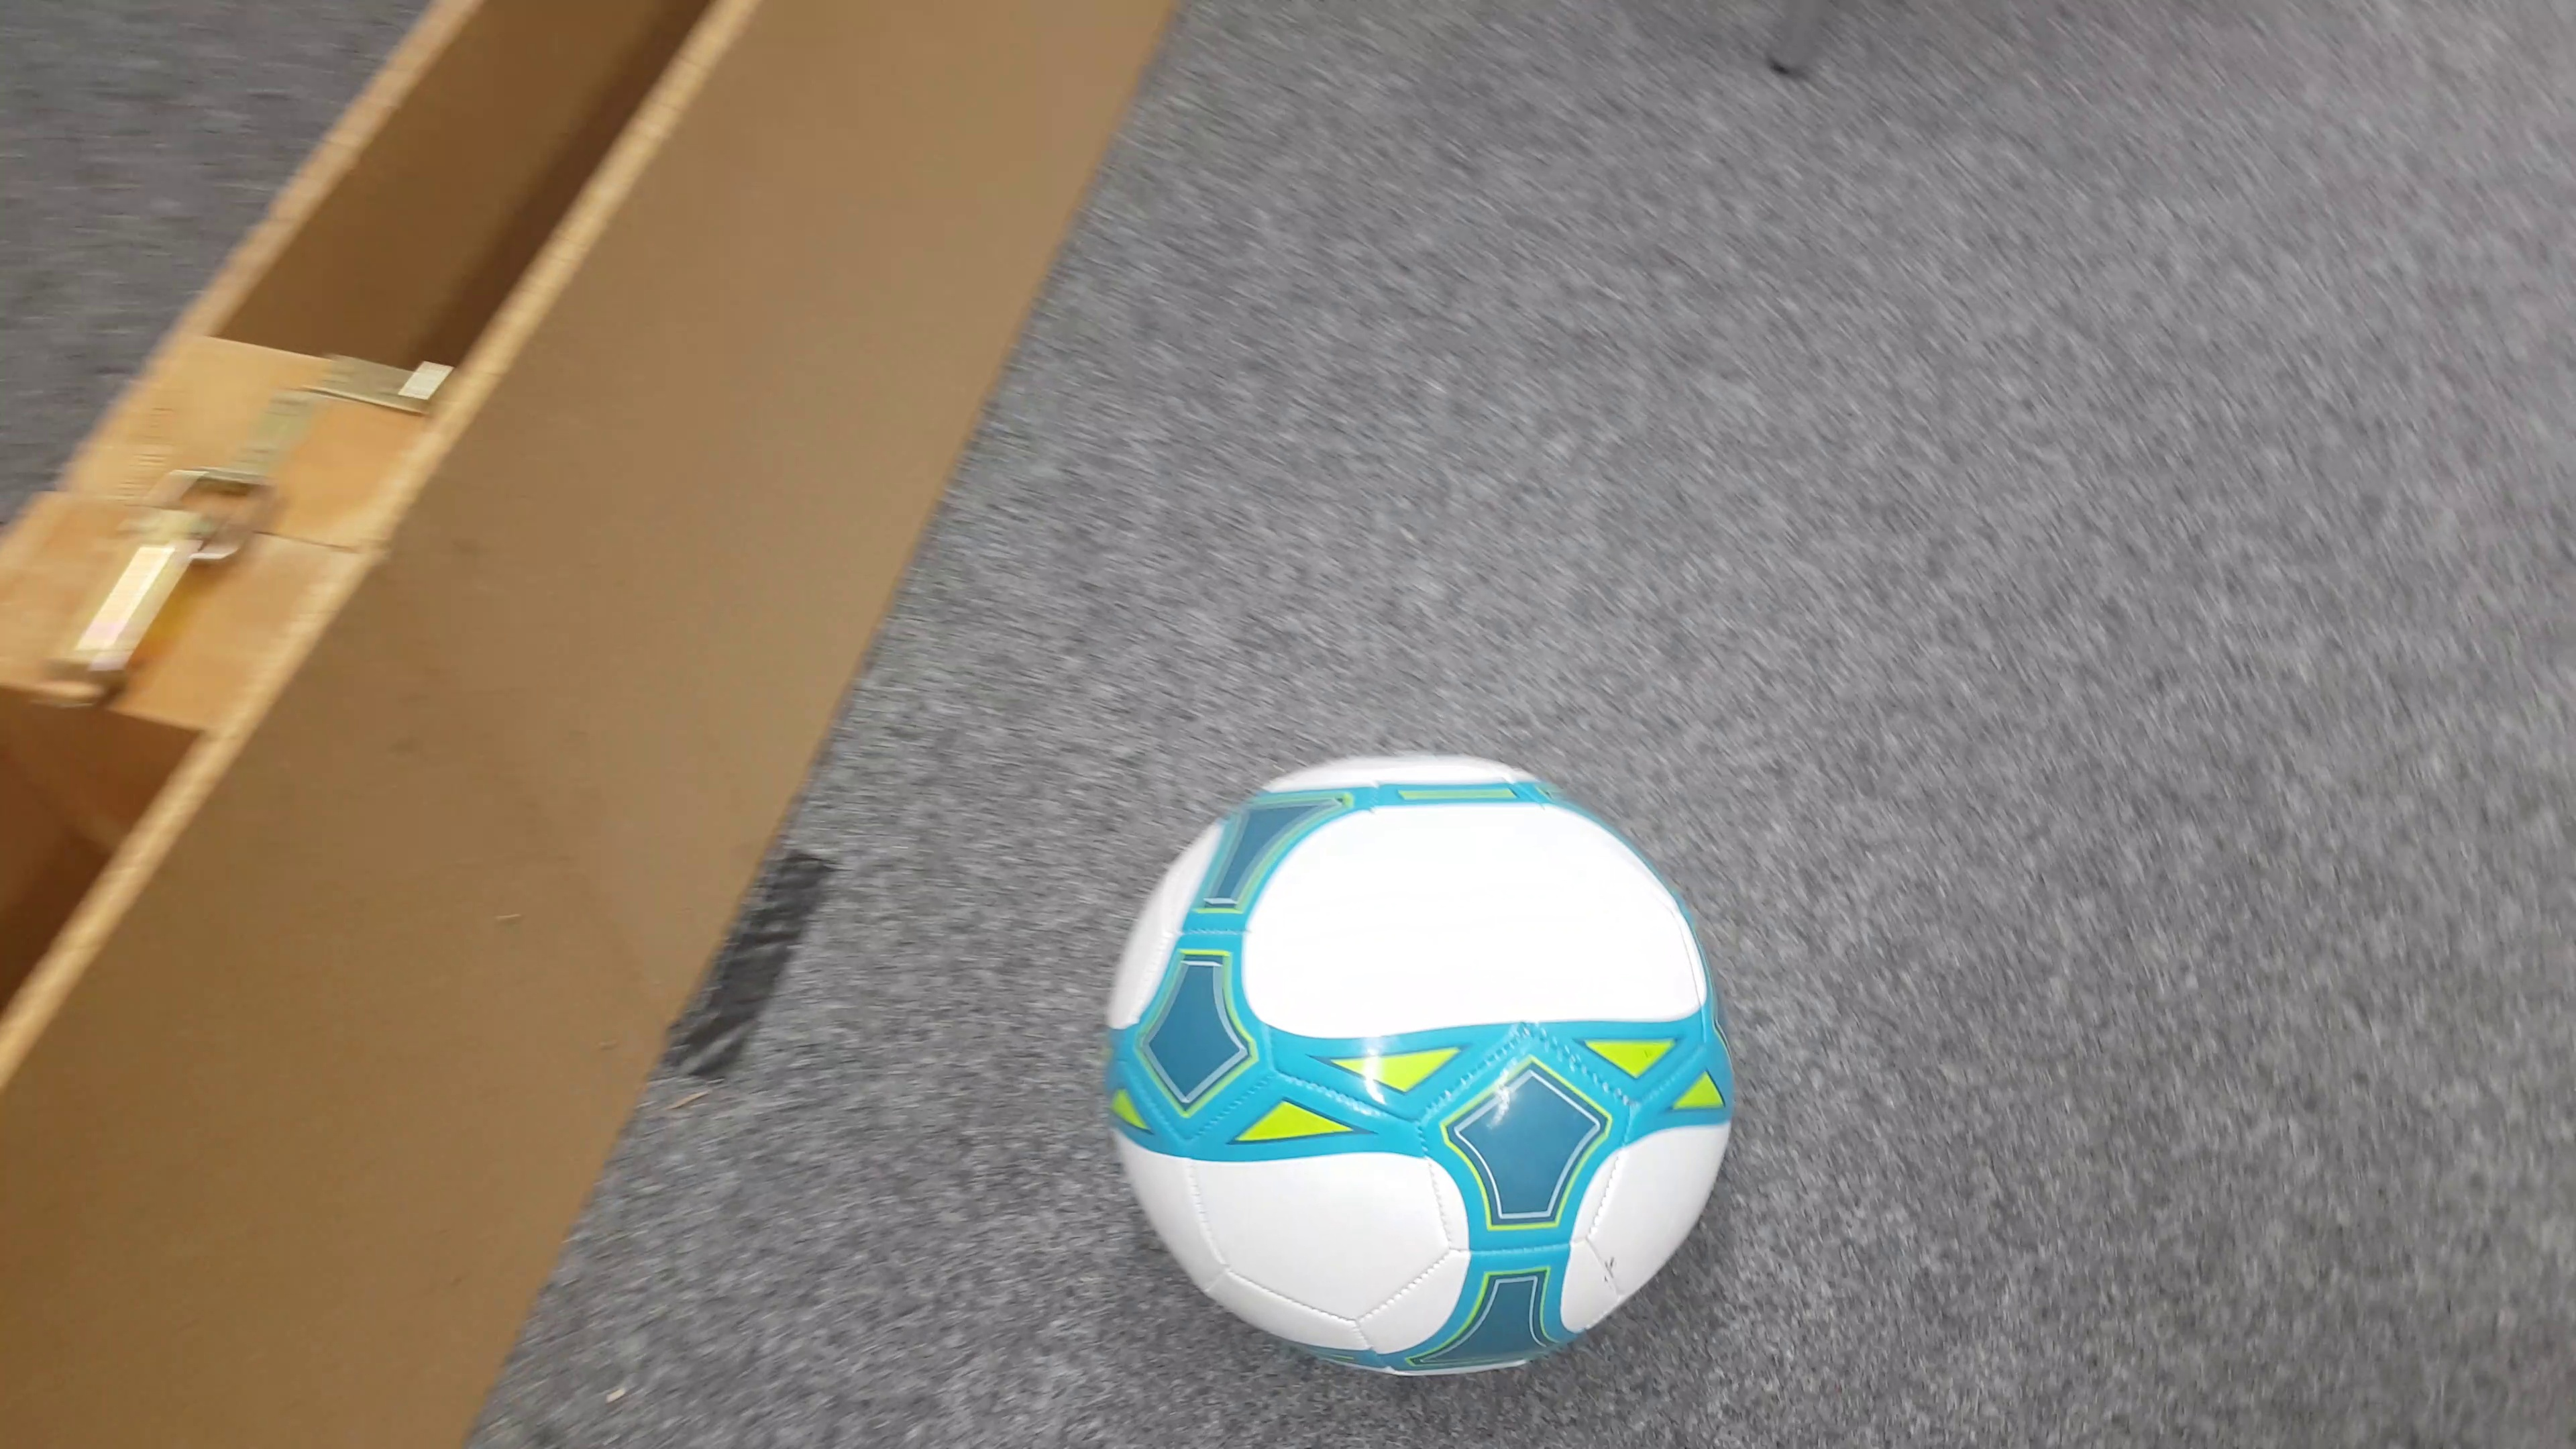kick: (1111, 748, 1739, 1375)
